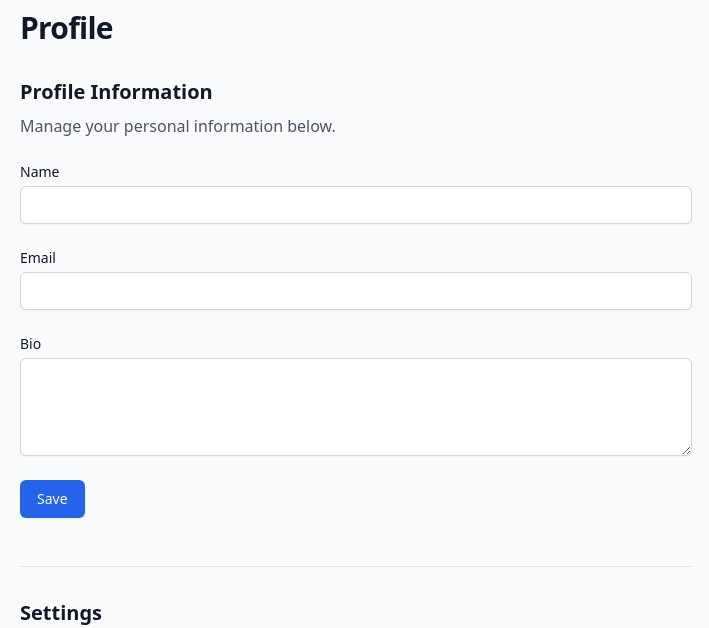
it: Profile Component › Validation - Error Messages › clears name error when user starts typing in name field
Click the button "Save" at (52, 499), box [20, 480, 85, 518]
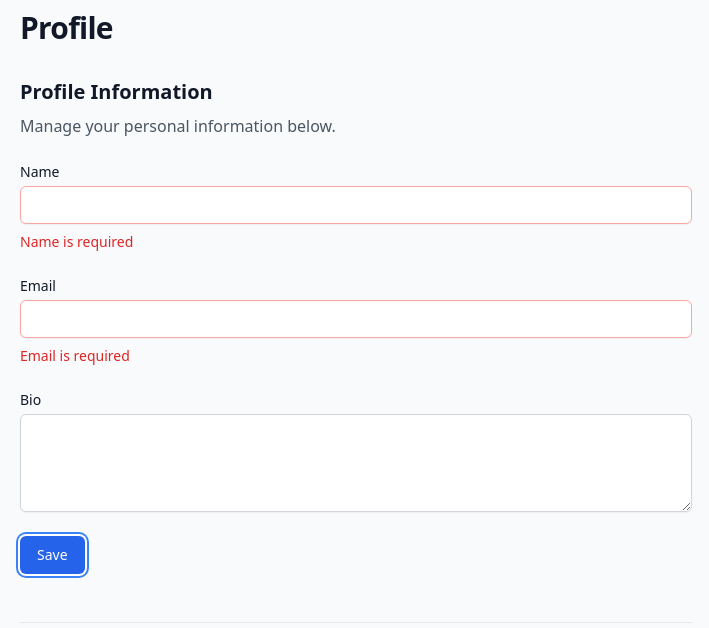
Expected: the text "Name is required" is shown, [20, 232, 133, 251]
Type "J" into the field labelled "Name" at (356, 205), box [20, 186, 692, 224]
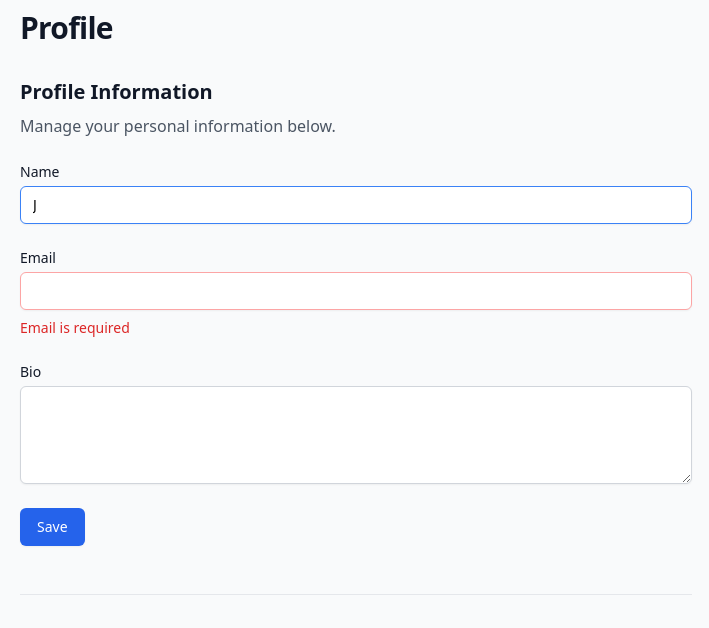
Expected: the text "Name is required" is gone
